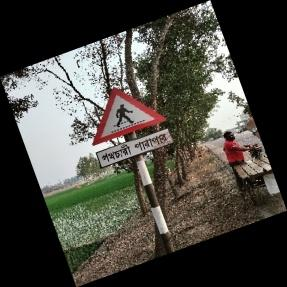Pedestrian-crossing: (91, 88, 171, 173)
